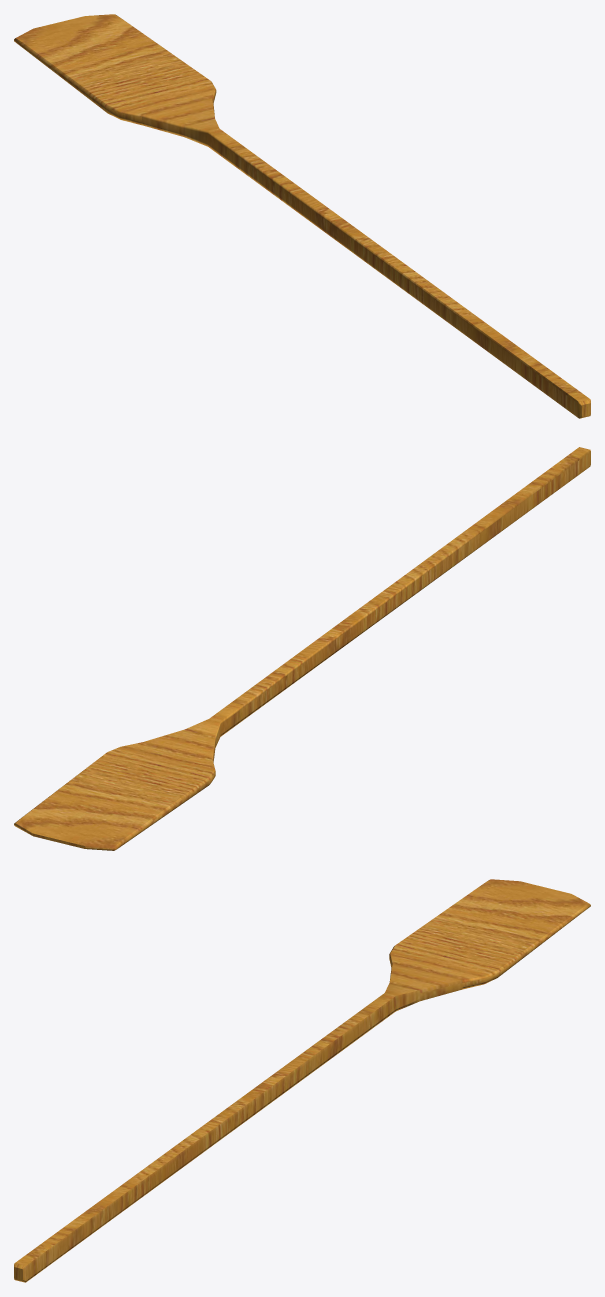
Rendered from PedalOK.fbx.
The picture shows the model from 3 angles, top to bottom: view 1: azimuth 30°, elevation 25°; view 2: azimuth 150°, elevation 25°; view 3: azimuth 330°, elevation 25°; orthographic projection.
Visible parts, largest first — view 1: pCube8; view 2: pCube8; view 3: pCube8.
Part boxes in pixels (x1,y1,x2,y2): pCube8: (14,14,590,418); pCube8: (14,447,590,850); pCube8: (14,879,590,1282).
Size of the model in its own units: 0.5387 by 0.0814 by 4.66.
Materials: 1 (1 with a texture image).
